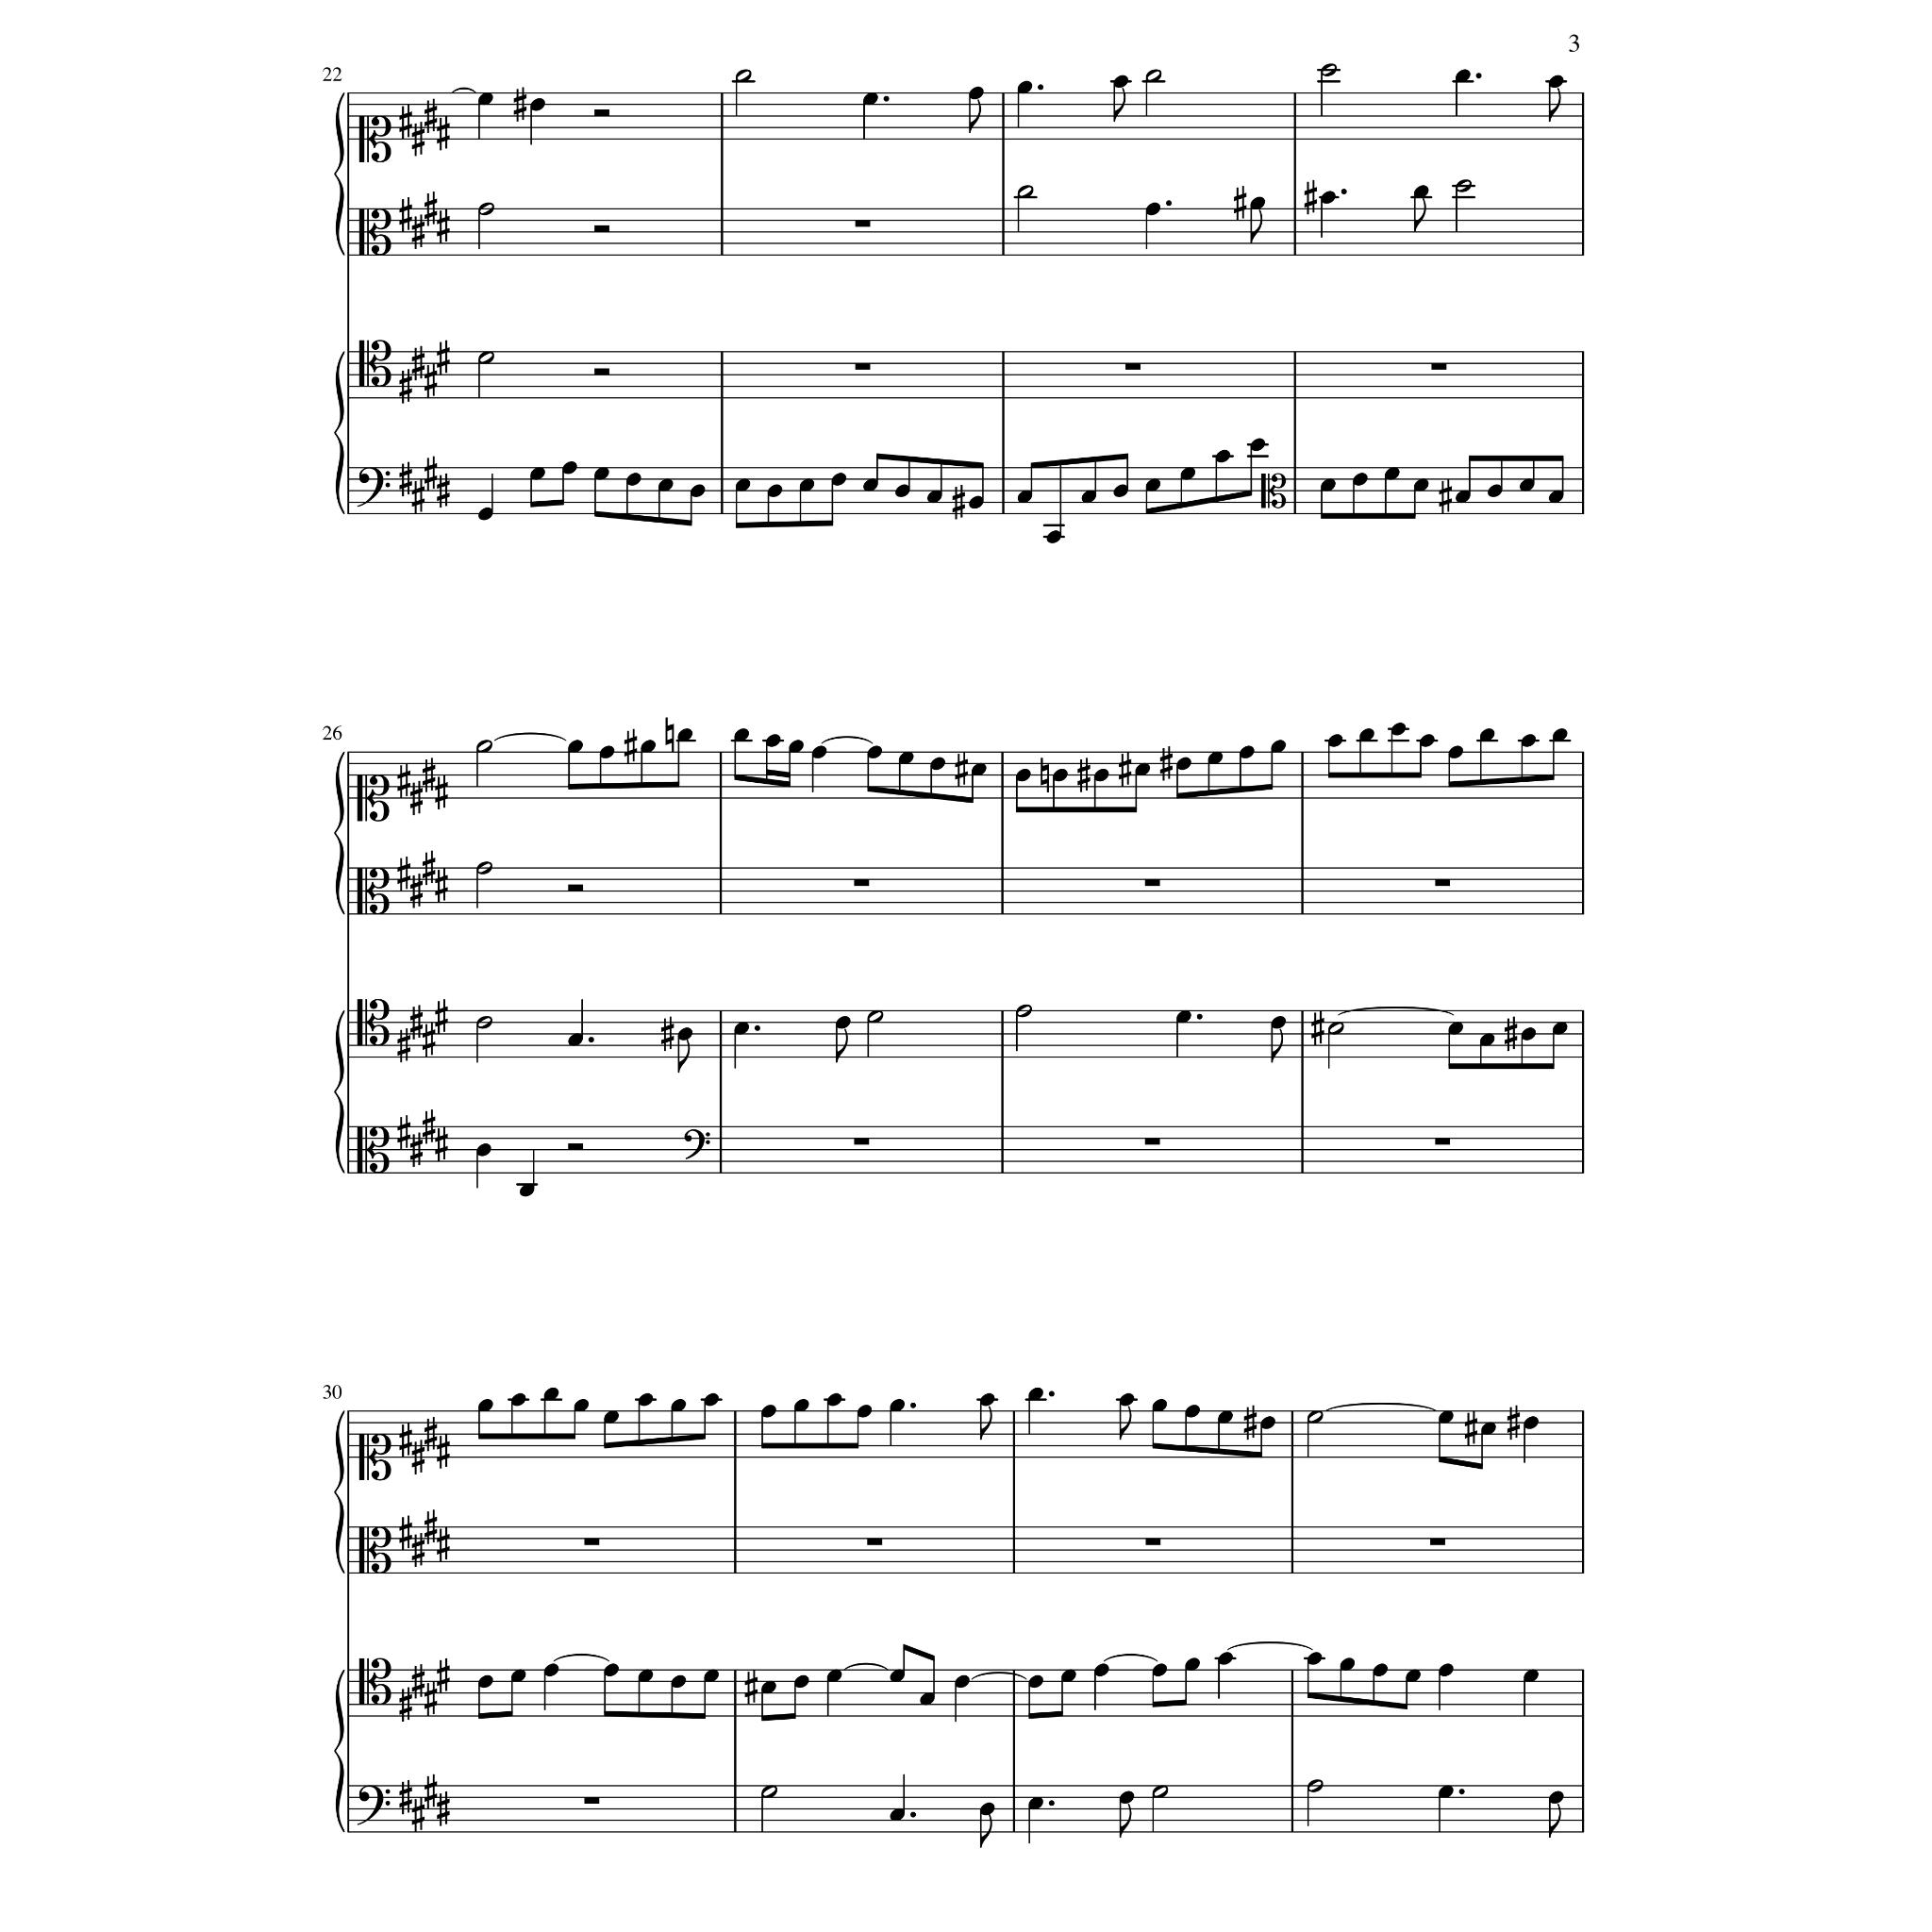brace: (333, 350, 345, 515), (333, 1010, 345, 1175), (333, 750, 345, 915), (333, 1410, 345, 1575), (333, 94, 345, 257), (333, 1670, 345, 1833)
fClef: (357, 467, 391, 508), (357, 1785, 391, 1826)
flag8thDown: (1251, 209, 1263, 244), (1113, 87, 1125, 122), (1548, 87, 1560, 122), (970, 99, 982, 134), (1270, 1028, 1283, 1063), (678, 1039, 690, 1074), (837, 1028, 849, 1063), (1120, 1803, 1132, 1838), (1120, 1405, 1132, 1440), (1550, 1803, 1562, 1838), (980, 1405, 993, 1440), (1414, 198, 1426, 232), (980, 1813, 993, 1847)
noteheadBlack: (1214, 449, 1231, 464), (830, 472, 847, 487), (929, 757, 947, 771), (1184, 1658, 1201, 1672), (1249, 196, 1265, 211), (1320, 191, 1336, 205), (1081, 490, 1097, 504), (1113, 485, 1129, 499), (1548, 490, 1564, 504), (1488, 485, 1504, 499), (1352, 472, 1368, 487), (1454, 490, 1470, 504), (1454, 69, 1470, 83), (1414, 186, 1430, 200), (529, 97, 545, 111), (625, 472, 640, 487), (690, 485, 706, 499), (478, 92, 494, 106), (968, 87, 984, 101), (925, 490, 941, 504), (895, 485, 911, 499), (968, 495, 984, 510), (862, 92, 878, 106), (1017, 490, 1033, 504), (766, 485, 782, 499), (1270, 1016, 1286, 1030), (1177, 1010, 1192, 1024), (1177, 757, 1192, 771), (1134, 763, 1150, 777), (1552, 1021, 1568, 1035), (1552, 727, 1568, 741), (1447, 1021, 1463, 1035), (1391, 722, 1407, 736), (1359, 727, 1375, 741), (1479, 1033, 1495, 1047), (1479, 727, 1495, 741), (678, 727, 694, 741), (734, 1021, 750, 1035), (734, 727, 750, 741), (476, 1143, 492, 1157), (568, 1033, 584, 1047), (520, 1184, 536, 1198), (835, 1016, 851, 1030), (970, 763, 985, 777), (1217, 1410, 1233, 1424), (1260, 1415, 1276, 1430), (1152, 1663, 1168, 1677), (1118, 1392, 1134, 1407), (1093, 1663, 1109, 1677), (1062, 1668, 1077, 1683), (1523, 1668, 1539, 1683), (1523, 1415, 1539, 1430), (1339, 1658, 1355, 1672), (1373, 1663, 1389, 1677), (1481, 1421, 1497, 1435), (1438, 1663, 1454, 1677), (1438, 1410, 1454, 1424), (1405, 1668, 1421, 1683), (603, 1410, 619, 1424), (603, 1663, 619, 1677), (637, 1392, 653, 1407), (637, 1668, 653, 1683), (543, 1663, 559, 1677), (704, 1392, 720, 1407), (704, 1668, 720, 1683), (543, 1387, 559, 1401), (510, 1392, 525, 1407), (510, 1668, 525, 1683), (890, 1668, 906, 1683), (890, 1808, 906, 1822), (761, 1681, 777, 1695), (826, 1668, 842, 1683), (826, 1392, 842, 1407), (978, 1801, 994, 1815), (978, 1392, 994, 1407), (1028, 1387, 1044, 1401), (1384, 467, 1401, 479), (1014, 770, 1031, 782), (787, 740, 805, 752), (1184, 1405, 1201, 1417), (1249, 439, 1265, 451), (1180, 467, 1196, 479), (1320, 479, 1336, 492), (1046, 531, 1062, 543), (1145, 479, 1161, 492), (1145, 203, 1161, 216), (1113, 76, 1129, 88), (1548, 76, 1564, 88), (1518, 479, 1534, 492), (1414, 479, 1430, 492), (561, 462, 577, 474), (594, 467, 610, 479), (529, 467, 545, 479), (478, 508, 494, 520), (734, 479, 750, 492), (862, 479, 878, 492), (1017, 81, 1033, 94), (798, 479, 814, 492), (1327, 734, 1343, 747), (1270, 740, 1286, 752), (1238, 747, 1254, 759), (1093, 770, 1109, 782), (1051, 770, 1067, 782), (1207, 752, 1223, 764), (1419, 734, 1435, 747), (1447, 747, 1463, 759), (1520, 1028, 1536, 1040), (1520, 734, 1536, 747), (598, 747, 614, 759), (640, 740, 656, 752), (678, 1028, 694, 1040), (568, 740, 584, 752), (897, 752, 913, 764), (867, 747, 883, 759), (764, 734, 780, 747), (810, 747, 826, 759), (1217, 1652, 1233, 1665), (1306, 1652, 1322, 1665), (1152, 1399, 1168, 1412), (1118, 1790, 1134, 1803), (1548, 1790, 1564, 1803), (1438, 1785, 1454, 1798), (573, 1399, 589, 1412), (761, 1405, 777, 1417), (671, 1675, 686, 1688), (671, 1399, 686, 1412), (478, 1675, 494, 1688), (478, 1399, 494, 1412), (890, 1399, 906, 1412), (856, 1405, 872, 1417), (1028, 1675, 1044, 1688), (1028, 1798, 1044, 1810), (954, 1675, 970, 1688), (920, 1693, 936, 1706), (794, 1399, 810, 1412), (794, 1675, 810, 1688), (658, 479, 672, 492)
noteheadHalf: (1320, 64, 1338, 78), (1145, 69, 1162, 83), (1454, 179, 1472, 193), (734, 69, 752, 83), (1327, 1021, 1345, 1035), (867, 1010, 885, 1024), (1306, 1778, 1323, 1792), (1306, 1410, 1323, 1424), (478, 350, 494, 364), (1017, 186, 1033, 200), (476, 1016, 492, 1030), (1152, 1785, 1169, 1798), (478, 203, 494, 216), (476, 862, 492, 874), (476, 740, 492, 752), (1016, 1005, 1031, 1017), (761, 1785, 777, 1798)
restHalf: (594, 225, 610, 234), (568, 1143, 584, 1152), (594, 368, 610, 375), (594, 110, 610, 117), (568, 885, 584, 892)
restWhole: (855, 363, 870, 372), (1125, 363, 1141, 372), (1431, 363, 1447, 372), (855, 221, 870, 228), (853, 879, 869, 886), (853, 1138, 869, 1145), (1145, 879, 1161, 886), (1145, 1138, 1161, 1145), (1435, 1138, 1451, 1145), (1435, 879, 1451, 886), (1145, 1537, 1161, 1545), (867, 1537, 883, 1545), (1430, 1537, 1445, 1545), (584, 1798, 600, 1805), (584, 1537, 600, 1545)
